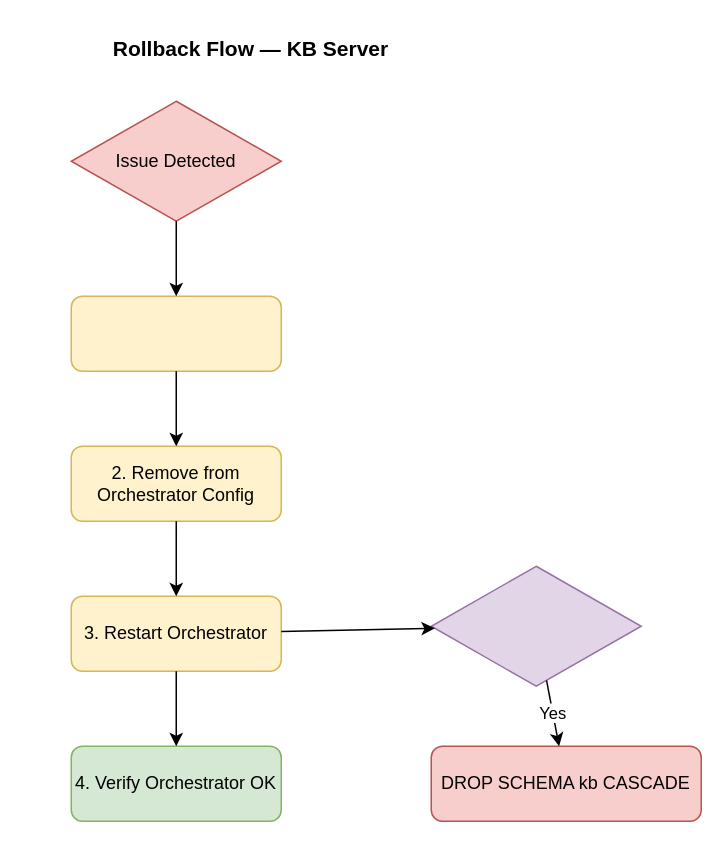
This 728x848 diagram has some shape labels left out. The centre of each missing label's shape, as x and y in pixels:
1. Stop KB Server: [175,333]
Drop KB Schema? (optional): [535,625]
